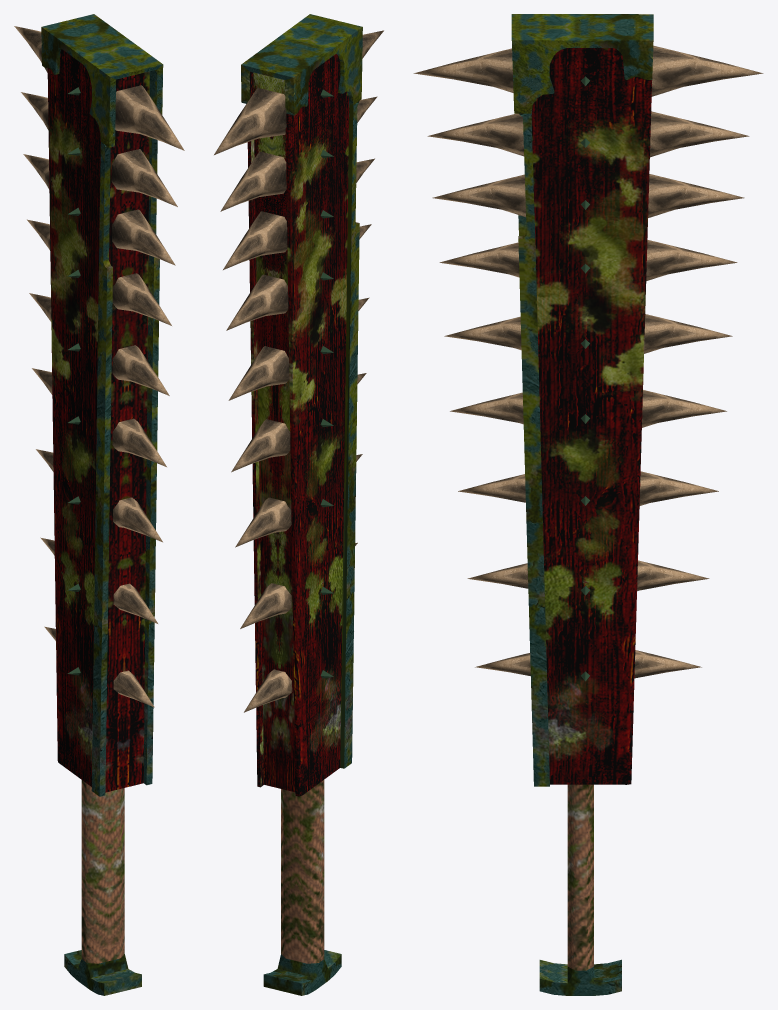
File: epee seraphon.FBX
3 views of the same model, side by side, from view 1: azimuth 30°, elevation 25°; view 2: azimuth 150°, elevation 25°; view 3: azimuth 270°, elevation 25° (orthographic). The views are drawn at different scales.
Parts seen in each view (by area): view 1: Object001; view 2: Object001; view 3: Object001.
Boxes of the visible parts, left/top/right/bottom form: Object001: left=14, top=14, right=184, bottom=995; Object001: left=214, top=14, right=383, bottom=995; Object001: left=413, top=14, right=763, bottom=995.
Size of the model in its own units: 22.07 by 293 by 97.19.
